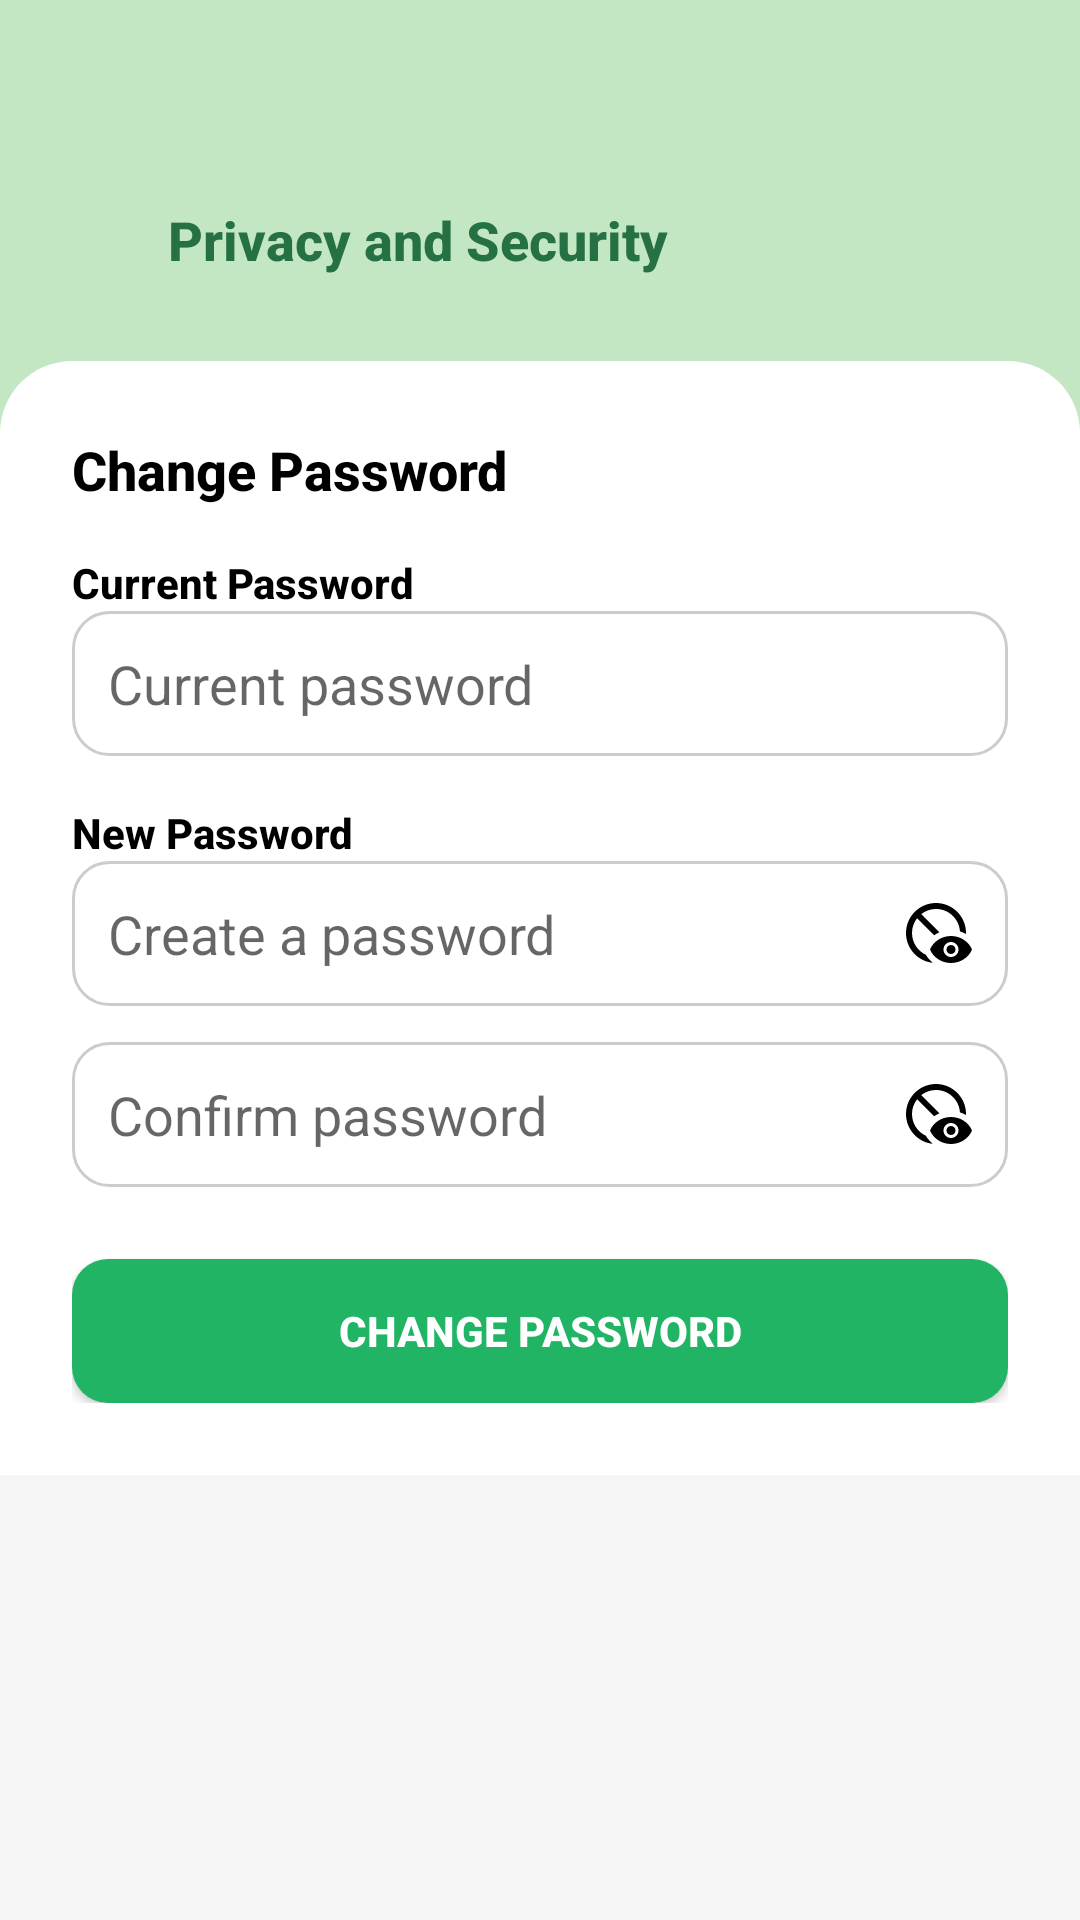

Locate icon controls on the screen. Image size 1080*1920, boxes as (x1, y1, x2, y2).
visable: (906, 903, 972, 963), (906, 1084, 972, 1144)
